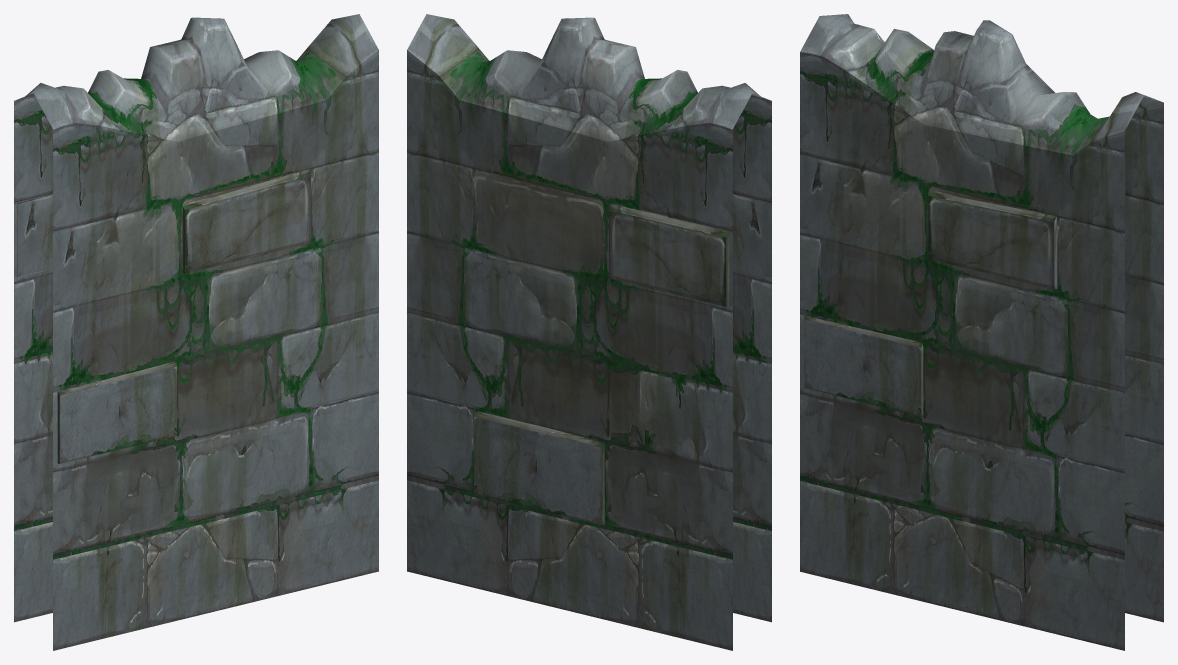
File: stemple_wall_straight_shadow_08.fbx
3 views of the same model, side by side, from view 1: azimuth 30°, elevation 25°; view 2: azimuth 150°, elevation 25°; view 3: azimuth 330°, elevation 25° (orthographic).
Visible parts, largest first — view 1: stemple_wall_straight_shadow_08-0; view 2: stemple_wall_straight_shadow_08-0; view 3: stemple_wall_straight_shadow_08-0.
Part boxes in pixels (x1,y1,x2,y2): stemple_wall_straight_shadow_08-0: (14,14,378,650); stemple_wall_straight_shadow_08-0: (407,14,771,650); stemple_wall_straight_shadow_08-0: (800,14,1163,650).
Bounding box in the file's own units: 4 × 6.79 × 0.9085.
